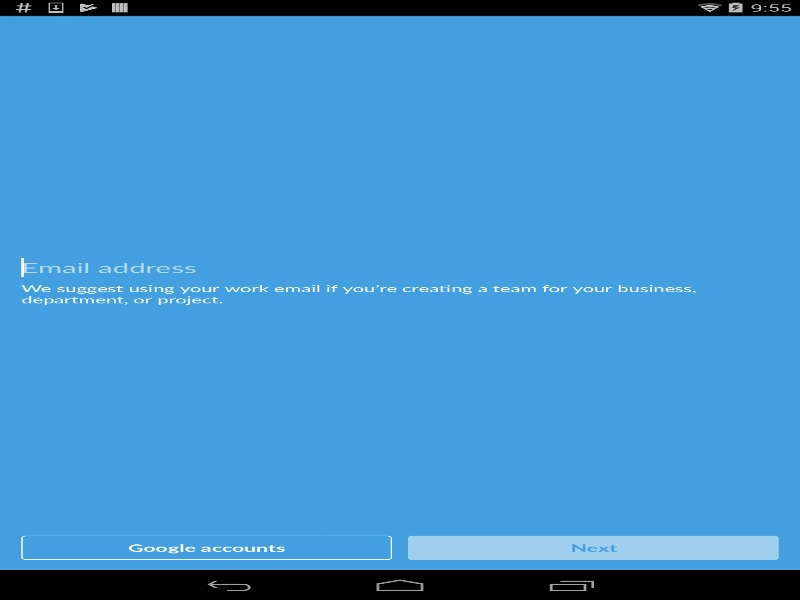Input: (21, 258, 778, 276)
